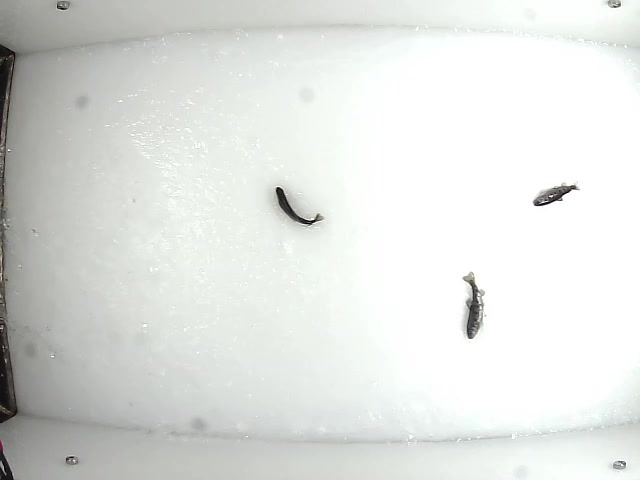fish: (458, 270, 487, 342), (274, 186, 325, 226), (530, 181, 582, 210)
